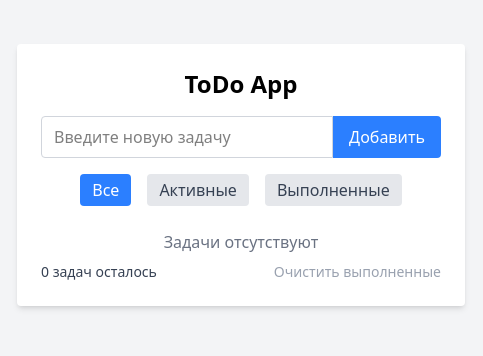
Test case: ToDo App › фильтрует задачи: только активные
// Добавляем 2 задачи
In the field with placeholder "Введите новую задачу": (187, 137) [41,116,333,158], type "Активная задача"
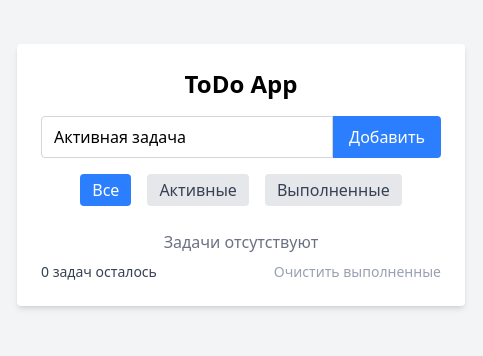
Click the button "Добавить": (387, 137) [333,116,441,158]
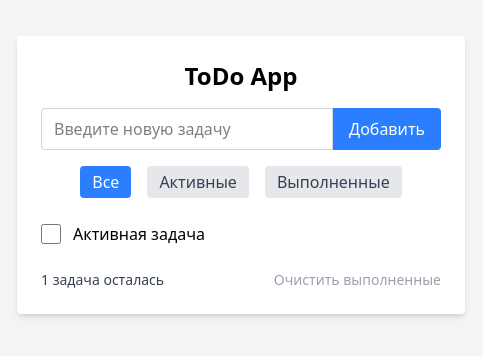
In the field with placeholder "Введите новую задачу": (187, 129) [41,108,333,150], type "Завершенная задача"
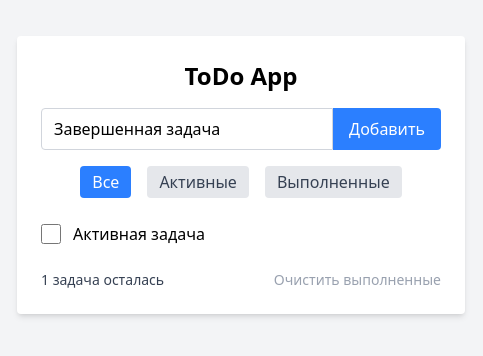
Click the button "Добавить": (387, 129) [333,108,441,150]
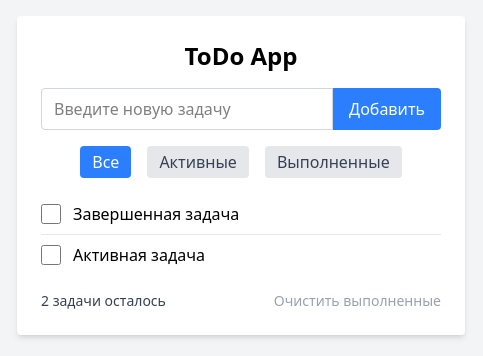
// Завершаем одну
Click the text "Завершенная задача": (156, 214) [73,202,239,224]
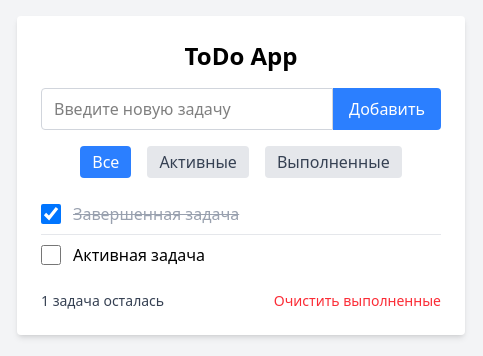
// Переключаем фильтр
Click the button "Активные": (198, 162) [147,146,249,178]
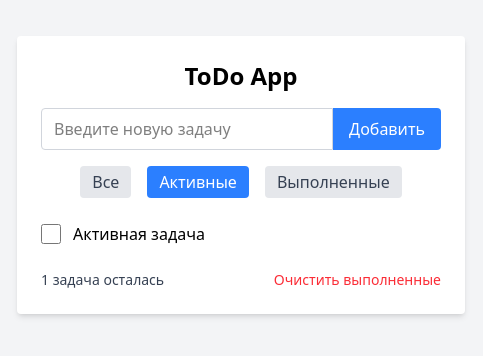
Result: the text "Активная задача" is shown at [73,223,205,245]
Result: the text "Завершенная задача" is gone
